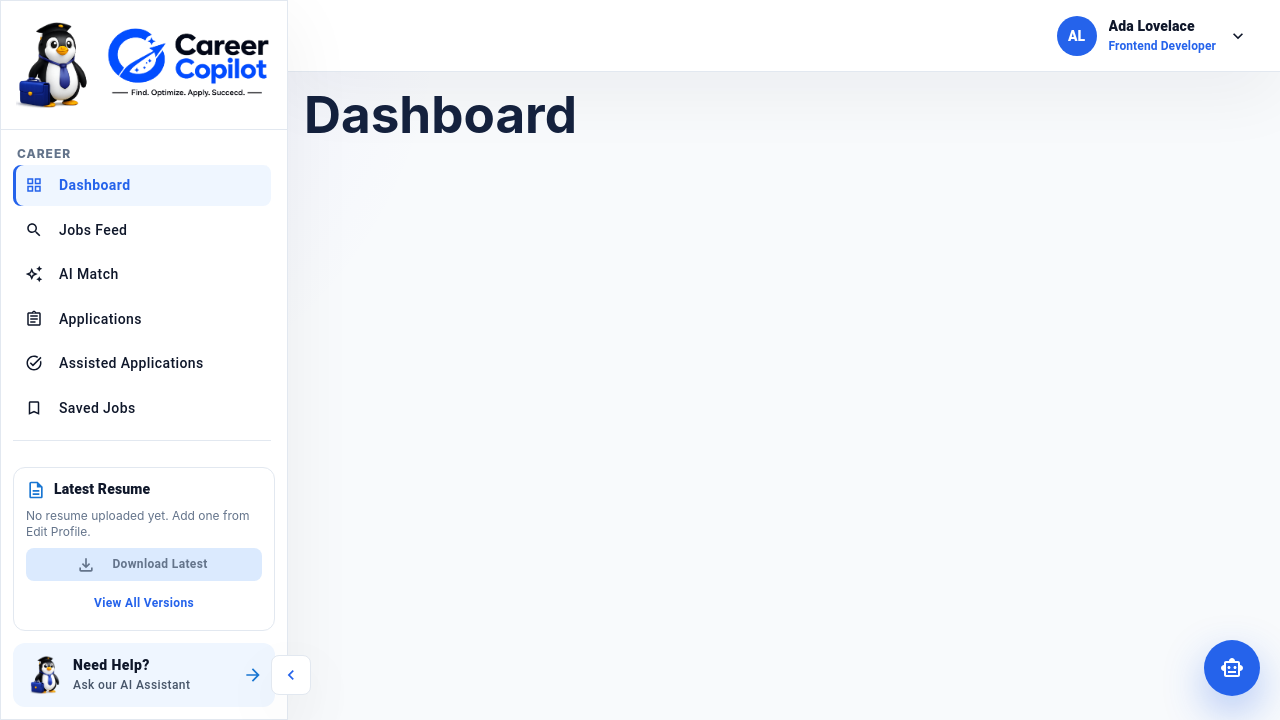
AppLayout › settings and navigation › toggles sidebar variant on click
This screenshot has width=1280, height=720.
Click the button named "collapse sidebar" at (291, 675), box x1=271 y1=655 x2=311 y2=695
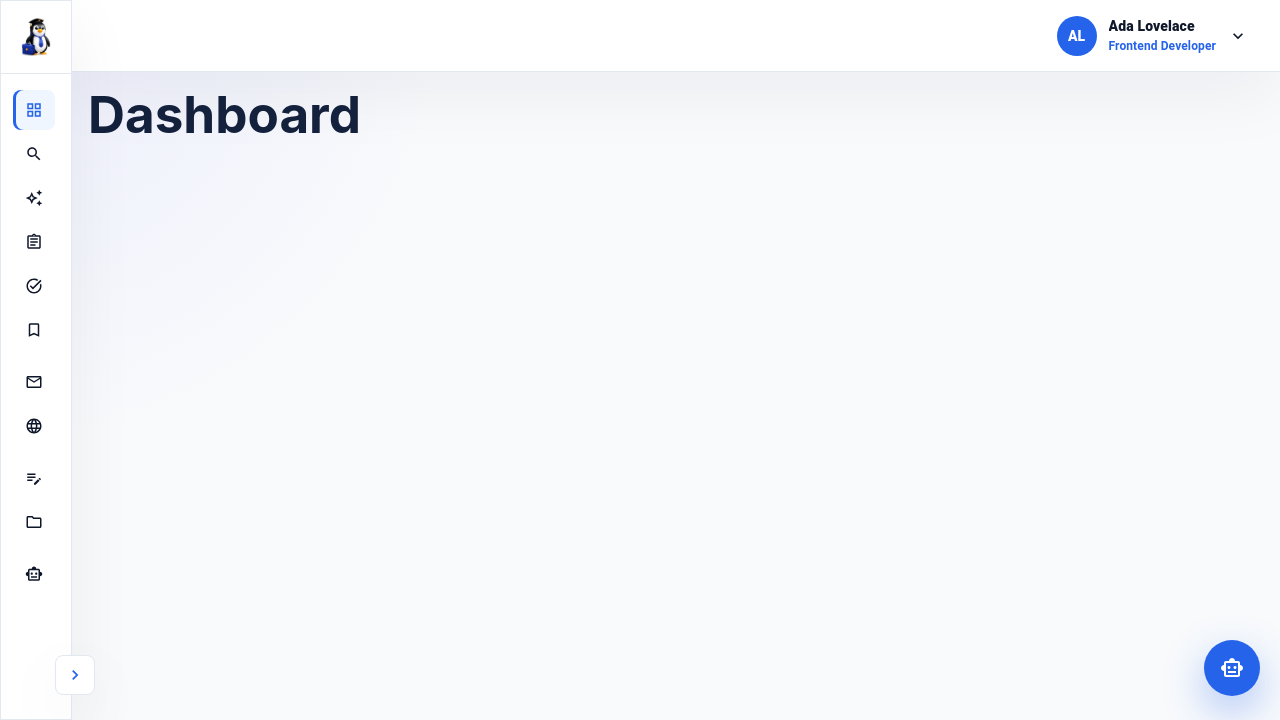
Expected: the button named "expand sidebar" is shown, x1=55 y1=655 x2=95 y2=695
